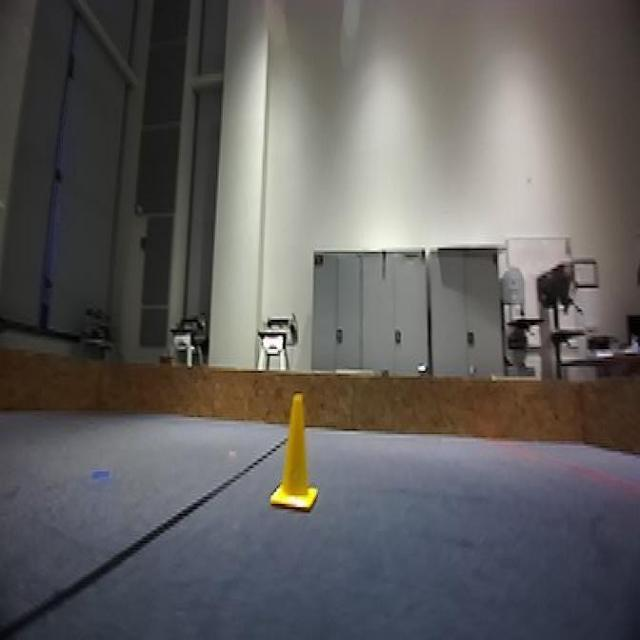frc_cone: (268, 393, 319, 512)
